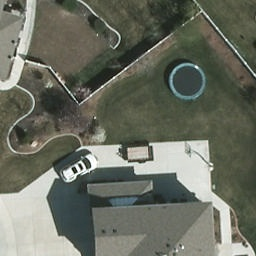car: (54, 151, 102, 184)
